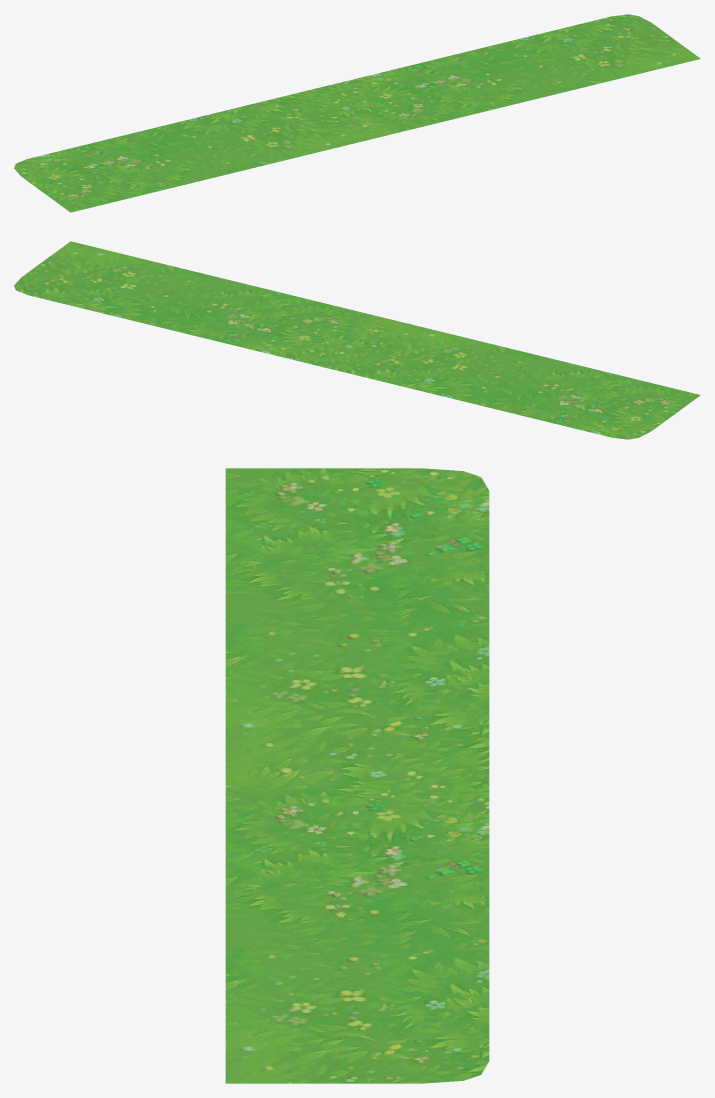
The model's file is zhucheng_caodi_1cao.FBX.
3 renders of one model, top to bottom at view 1: azimuth 30°, elevation 25°; view 2: azimuth 150°, elevation 25°; view 3: azimuth 270°, elevation 25°, orthographic. The views are drawn at different scales.
Visible parts, largest first — view 1: zhucheng_caodi_1cao; view 2: zhucheng_caodi_1cao; view 3: zhucheng_caodi_1cao.
Part boxes in pixels (left/top/right/bottom): zhucheng_caodi_1cao: left=14, top=14, right=700, bottom=212; zhucheng_caodi_1cao: left=14, top=241, right=700, bottom=439; zhucheng_caodi_1cao: left=225, top=468, right=489, bottom=1083.
Bounding box in the file's own units: 676 × 7.55e-15 × 122.
